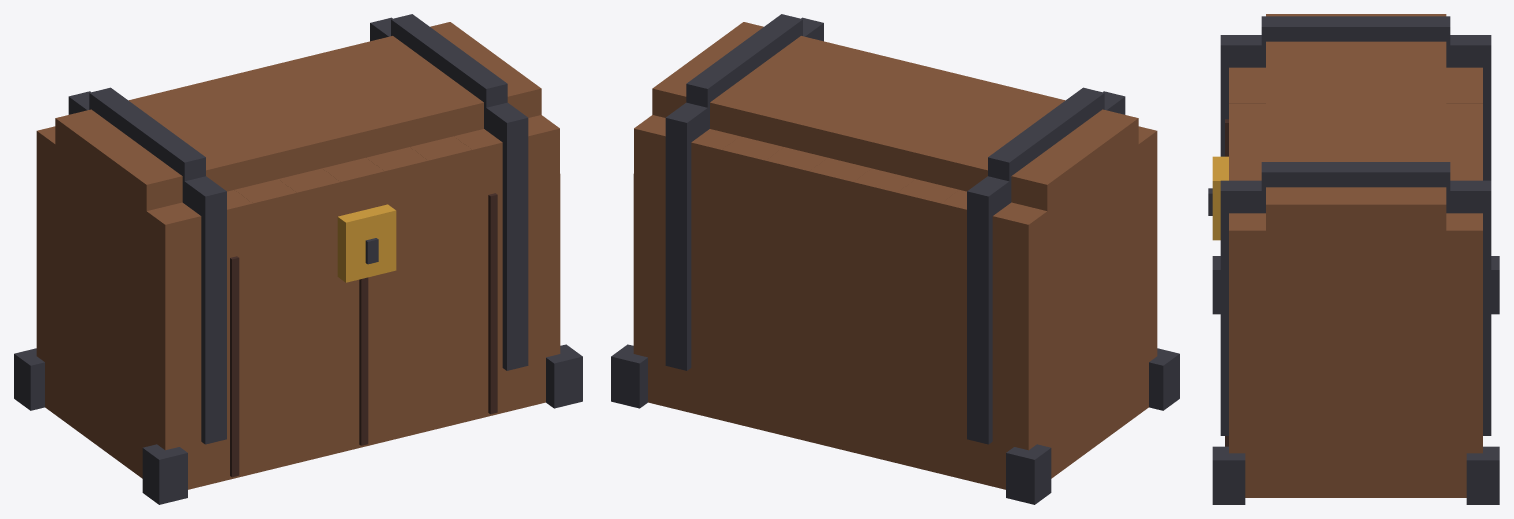
File: storage_chest.glb
3 views of the same model, side by side, from view 1: azimuth 30°, elevation 25°; view 2: azimuth 150°, elevation 25°; view 3: azimuth 270°, elevation 25° (orthographic).
Parts seen in each view (by area): view 1: chest_body; view 2: chest_body; view 3: chest_body.
Part boxes in pixels (x1=…): chest_body: x1=14, y1=14, x2=582, y2=504; chest_body: x1=611, y1=14, x2=1179, y2=504; chest_body: x1=1208, y1=14, x2=1499, y2=504.
Bounding box in the file's own units: 1.18 × 0.83 × 0.71.
